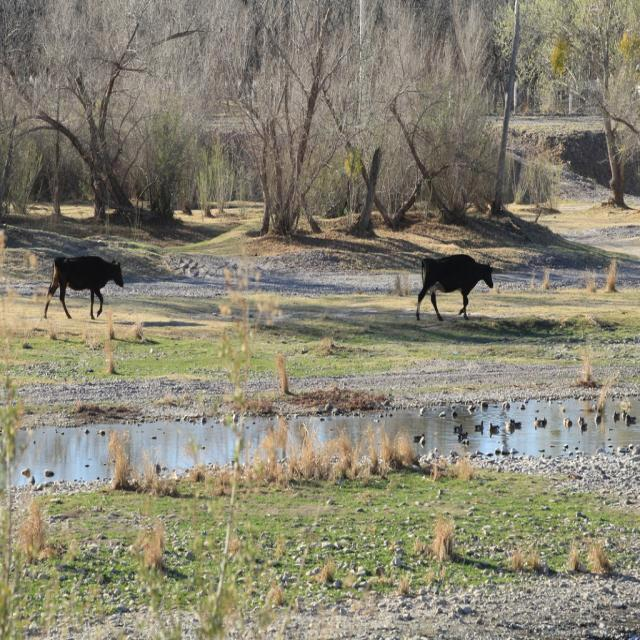cow: (416, 254, 494, 321), (44, 256, 124, 318)
